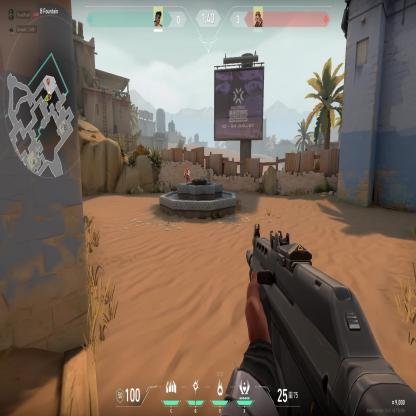enemy: (184, 166, 191, 182)
